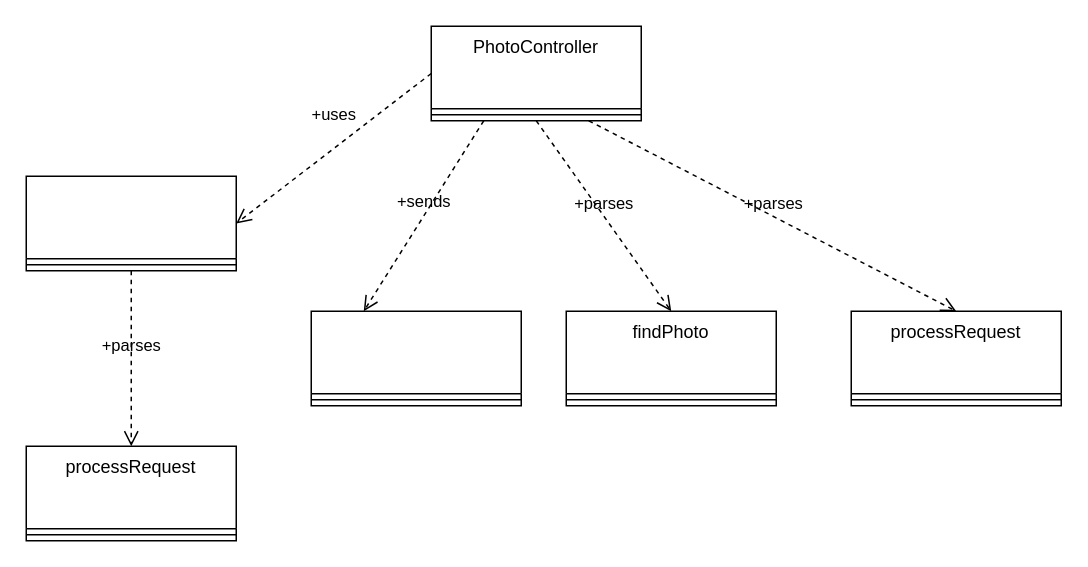
Some shapes in this 1088 by 567 pixel diagram are drawn without their labels. The centre of each missing label's shape, as x and y in pixels:
AuthentificationController: (x=130, y=223)
JSON Response: (x=415, y=358)
